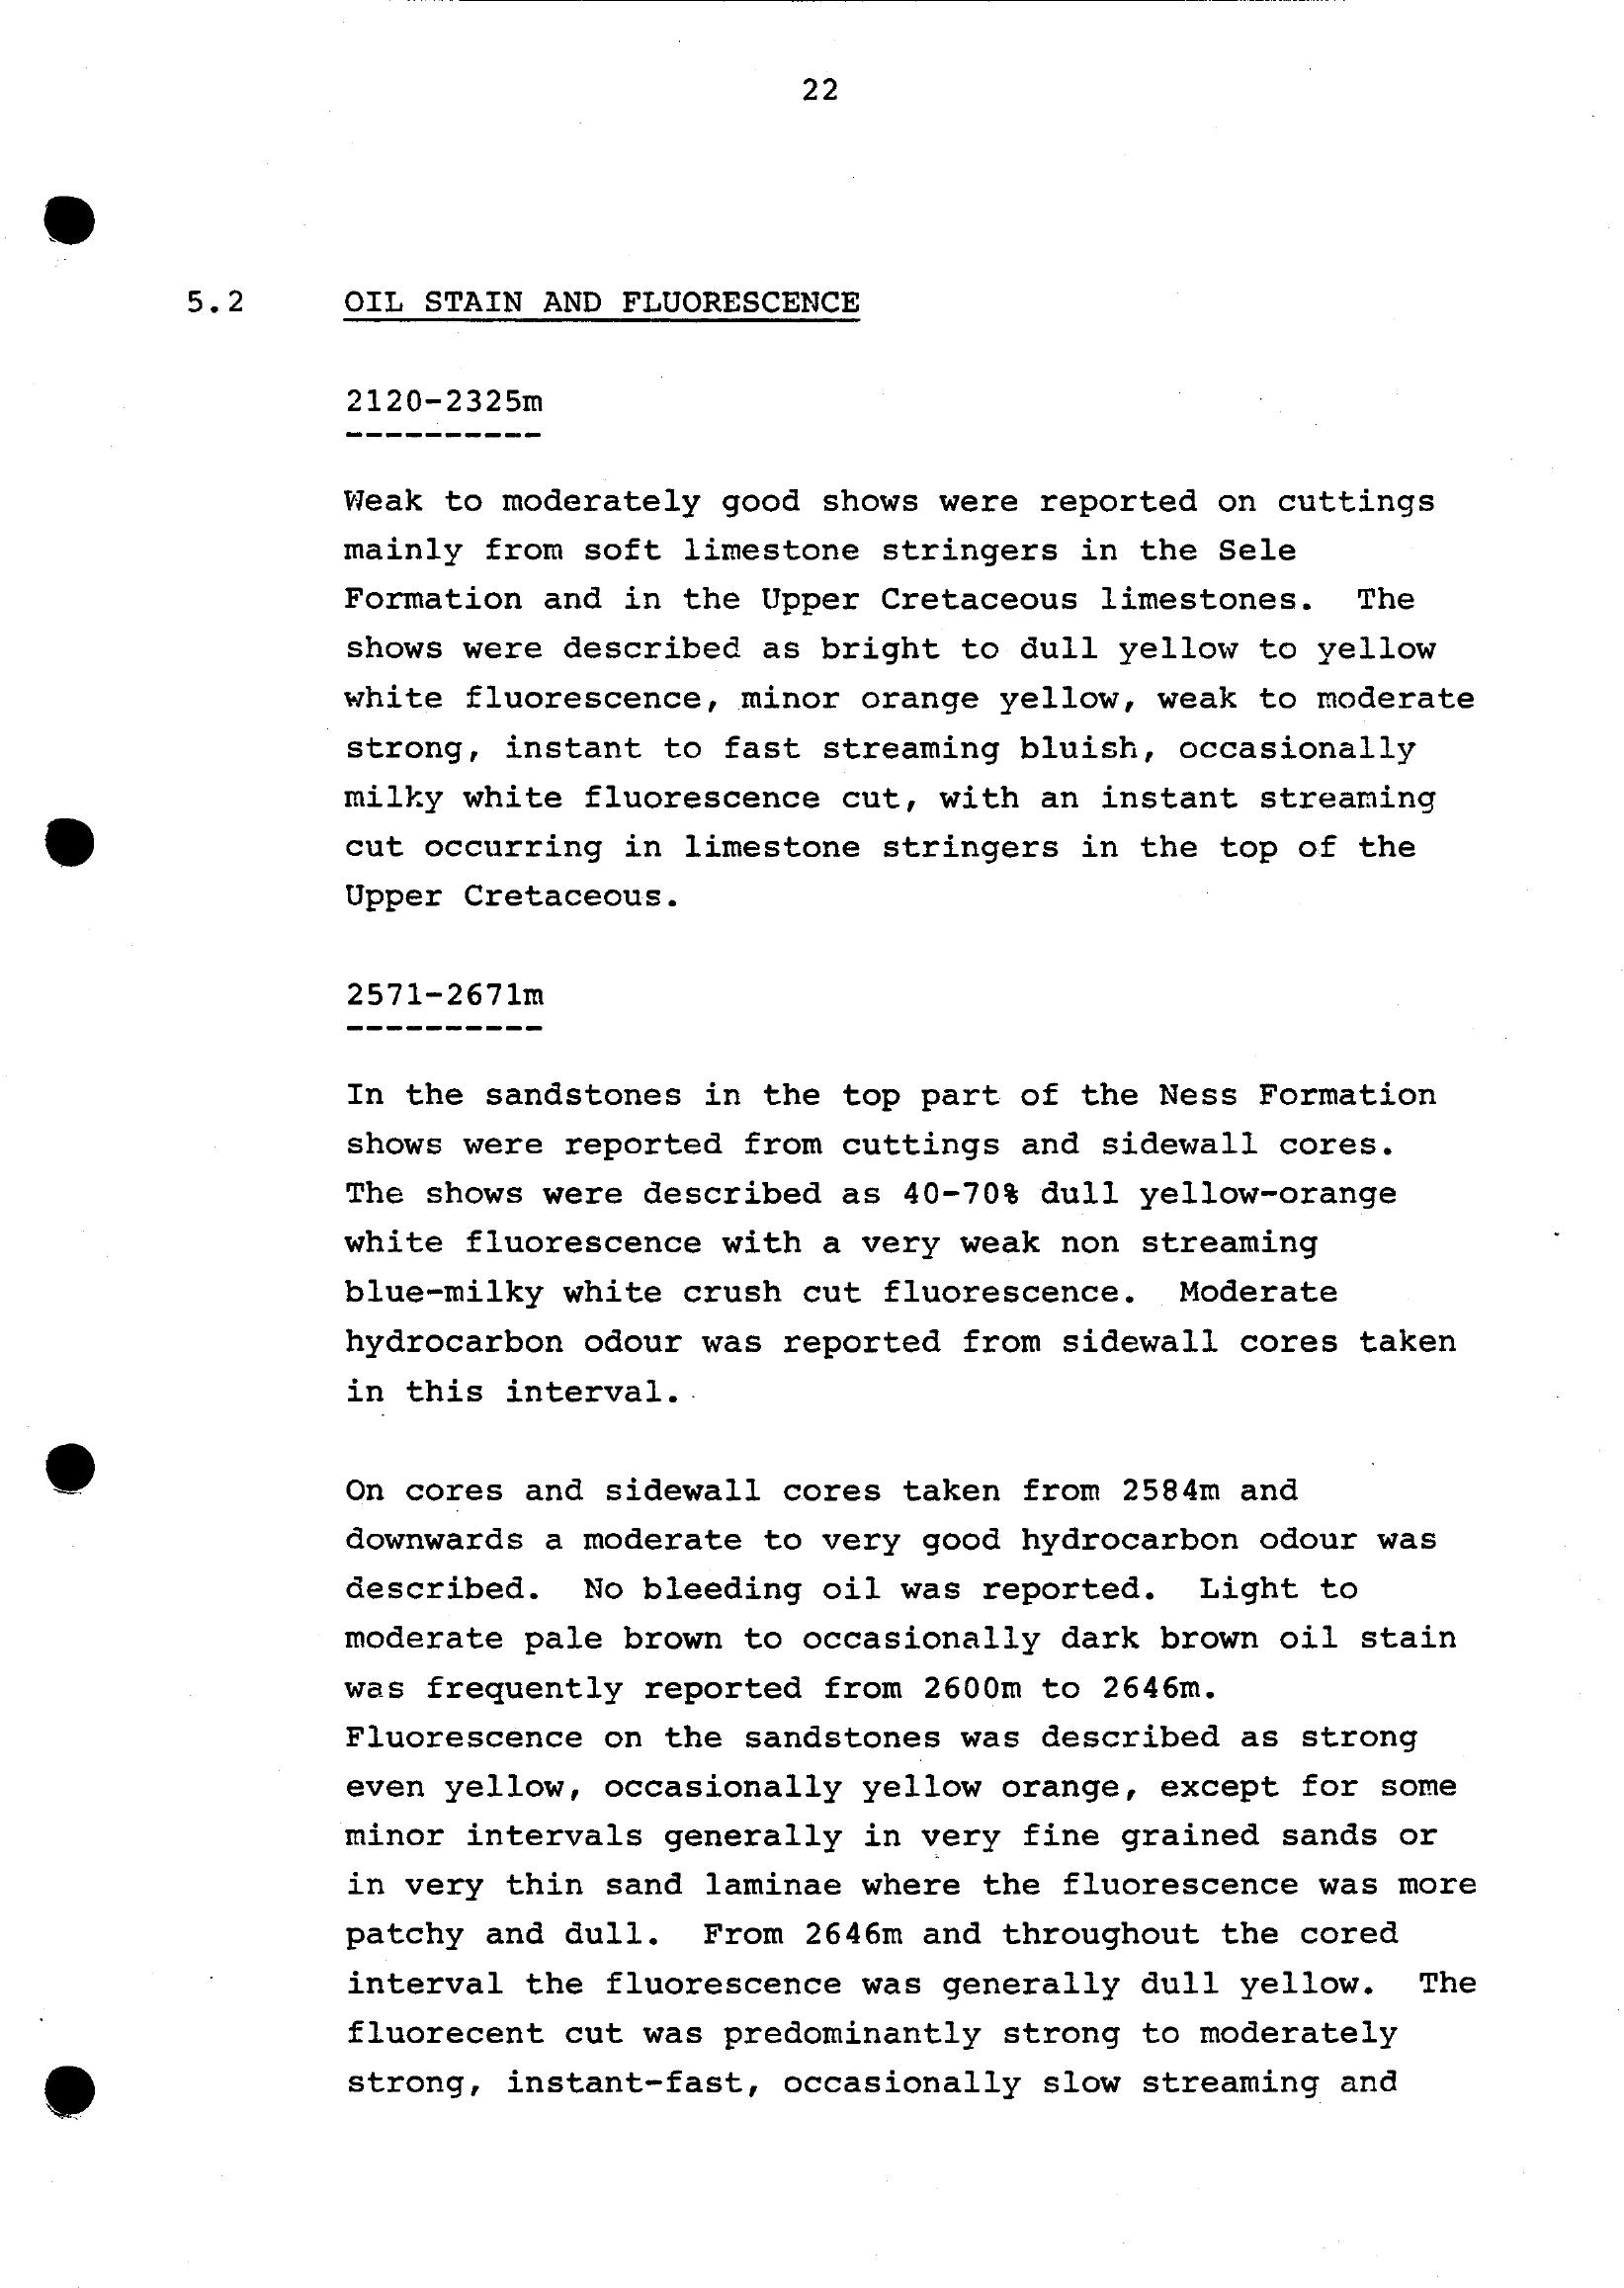text: (292, 232, 1541, 2149)
